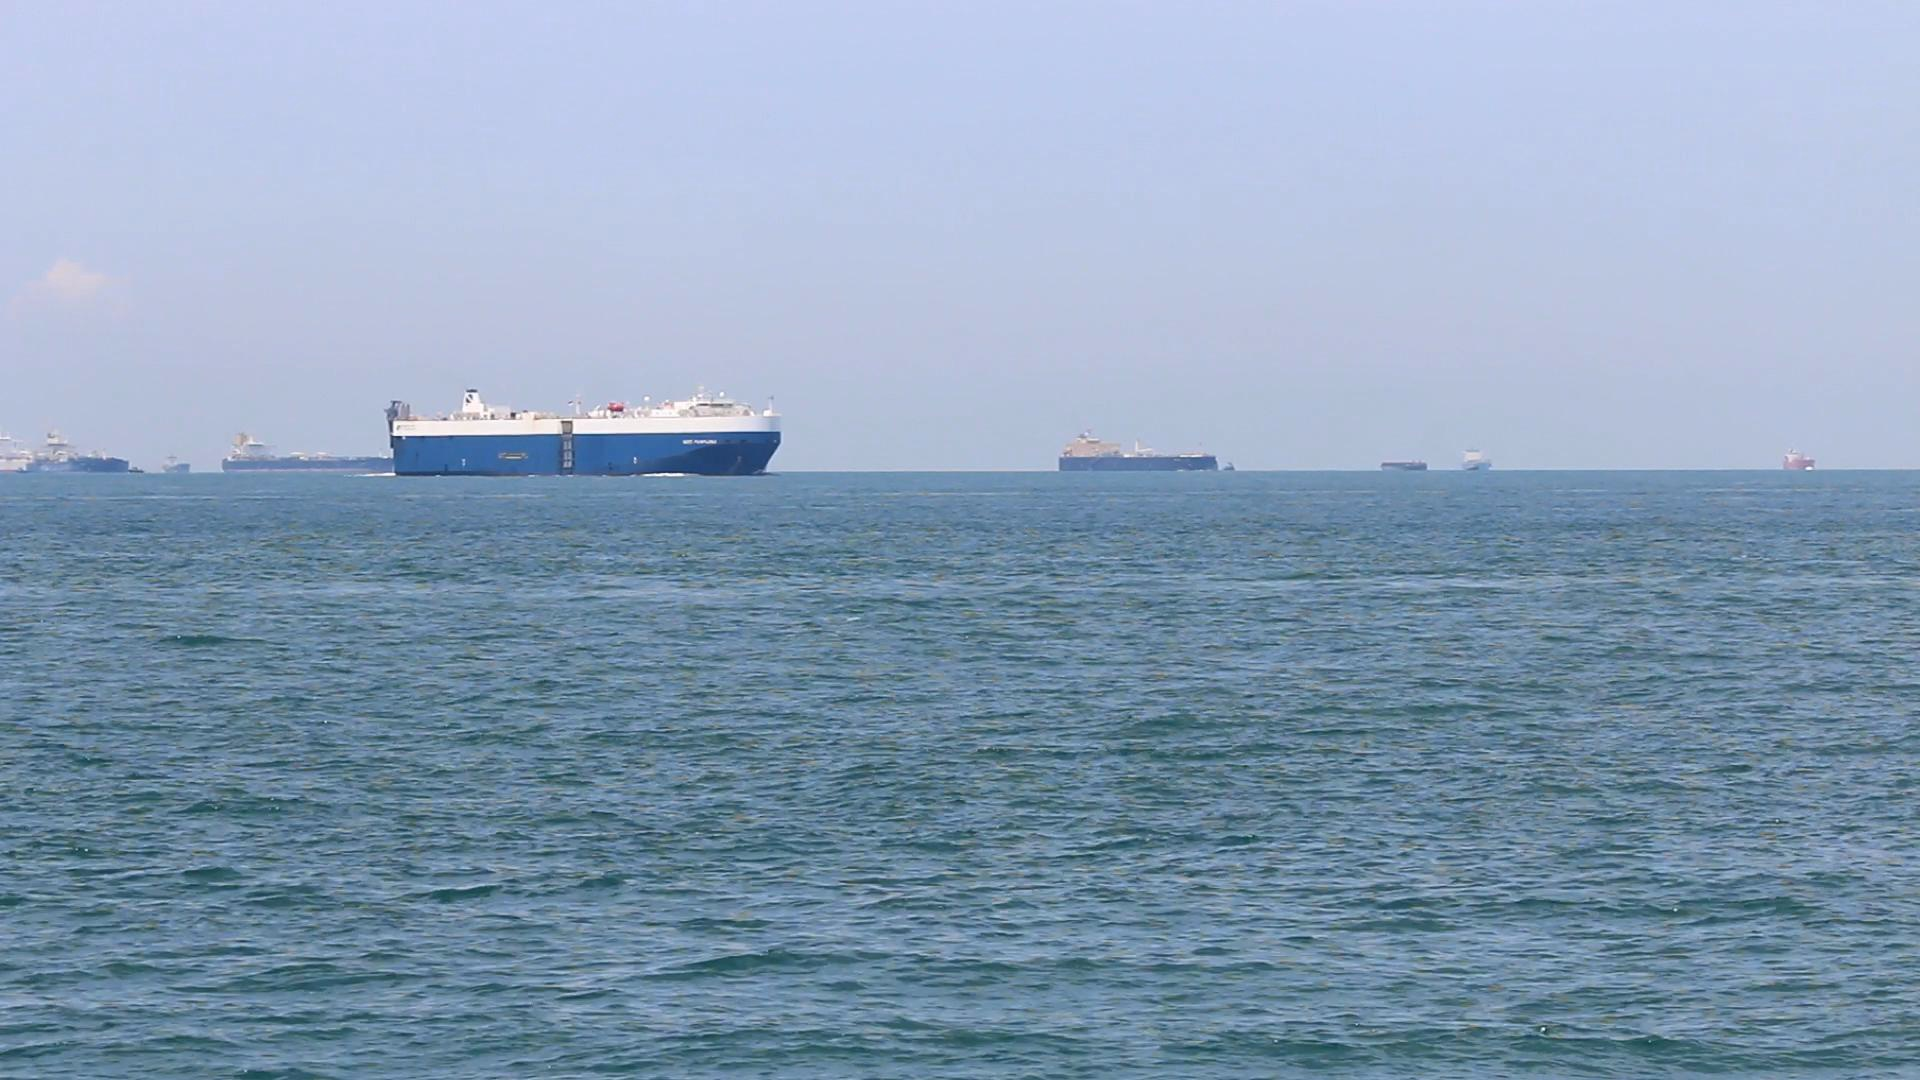Container Ship: (375, 394, 779, 477), (26, 423, 132, 485), (215, 434, 382, 471), (0, 435, 44, 481), (1449, 443, 1499, 479), (1776, 442, 1822, 476), (1375, 455, 1433, 479), (161, 446, 196, 484), (131, 454, 158, 485), (1211, 460, 1245, 477)
